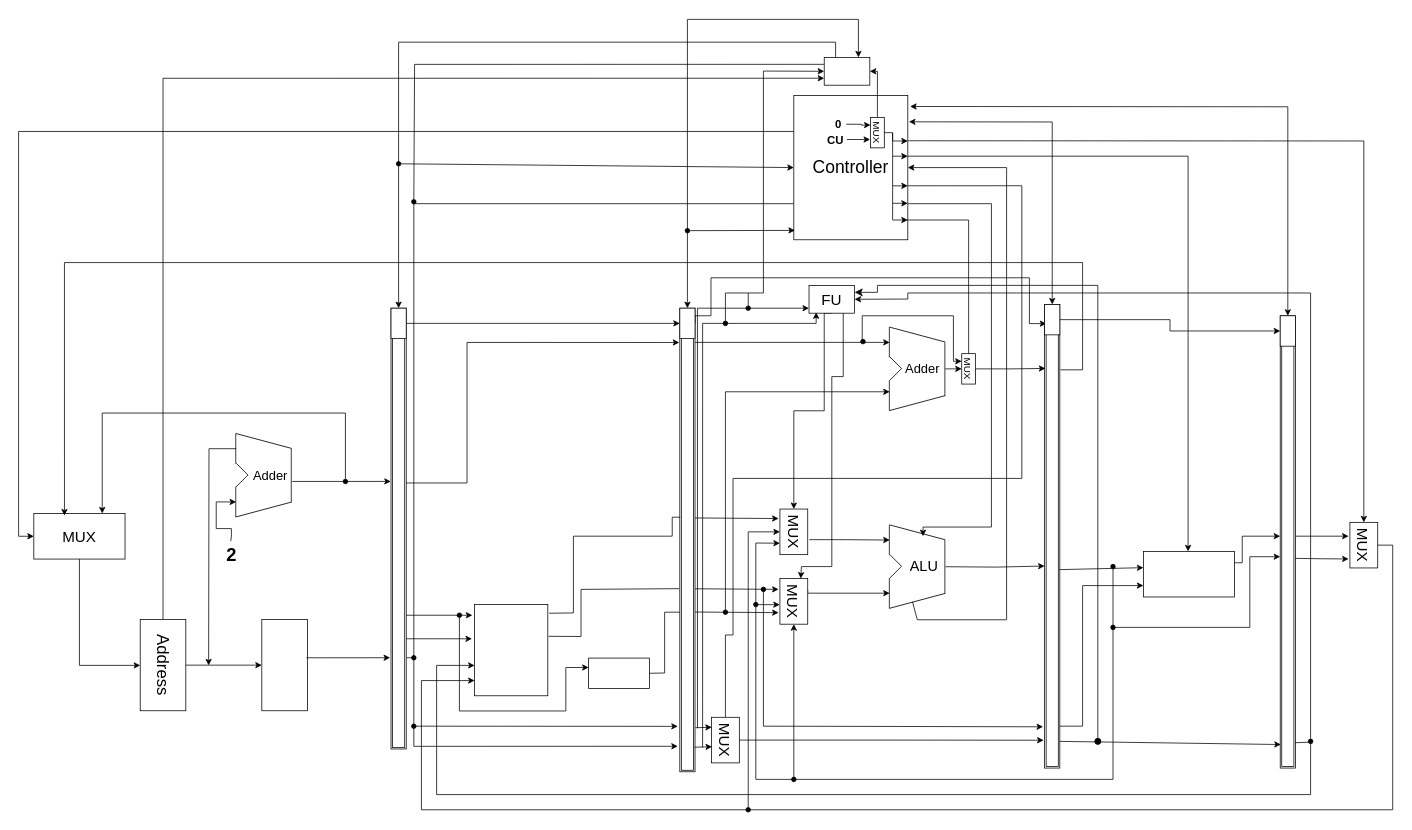
This 1412x830 diagram has some shape labels left out. Each missing label, with the centre of its shape:
Data Memory: (x=1189, y=574)
HU: (x=846, y=71)
Memory: (x=284, y=665)
Register FIle: (x=511, y=650)
Sign Extender: (x=618, y=672)
